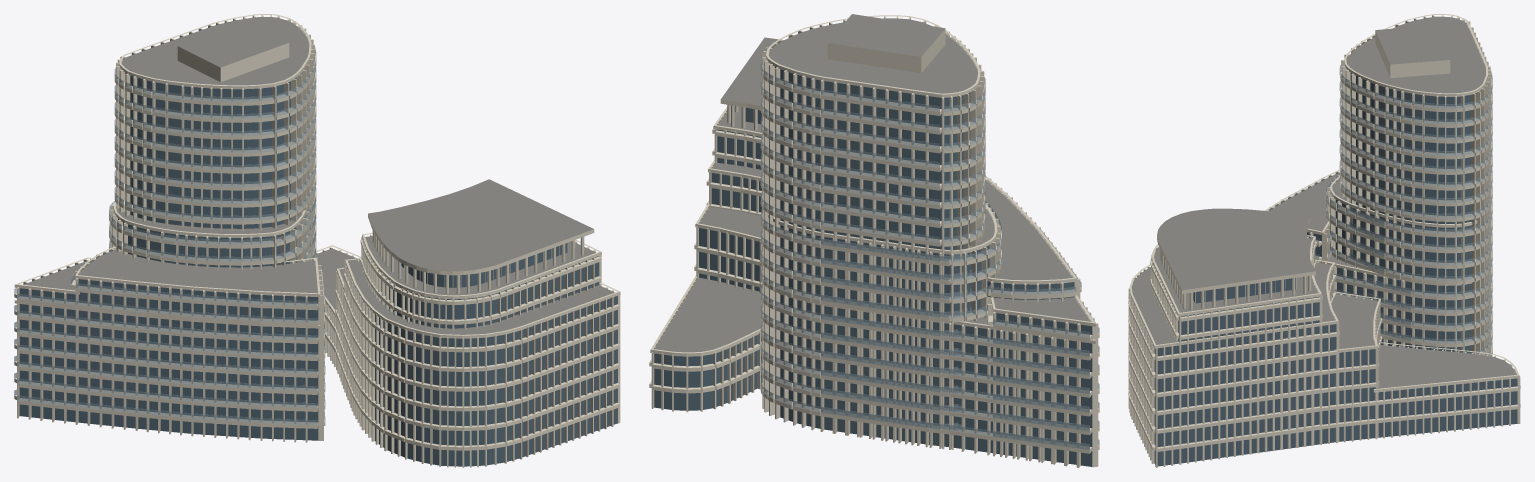
Rendered from marble_arch_place.glb.
3 renders of one model, left to right at view 1: azimuth 30°, elevation 25°; view 2: azimuth 150°, elevation 25°; view 3: azimuth 270°, elevation 25°, orthographic. The views are drawn at different scales.
Bounding box in the file's own units: 96.42 × 68.6 × 78.35.
